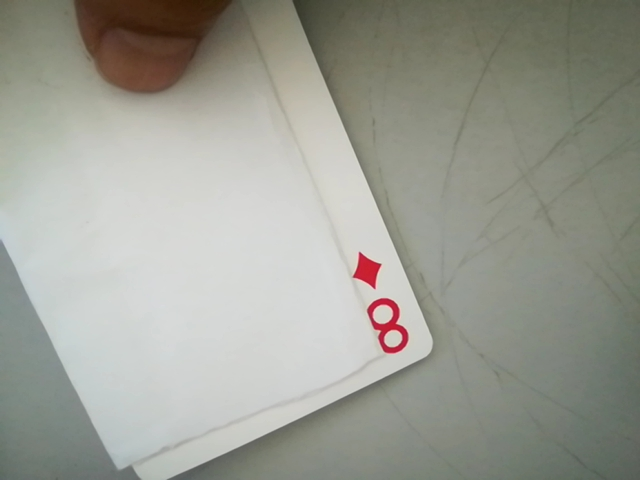fk 8: (345, 245, 422, 360)
